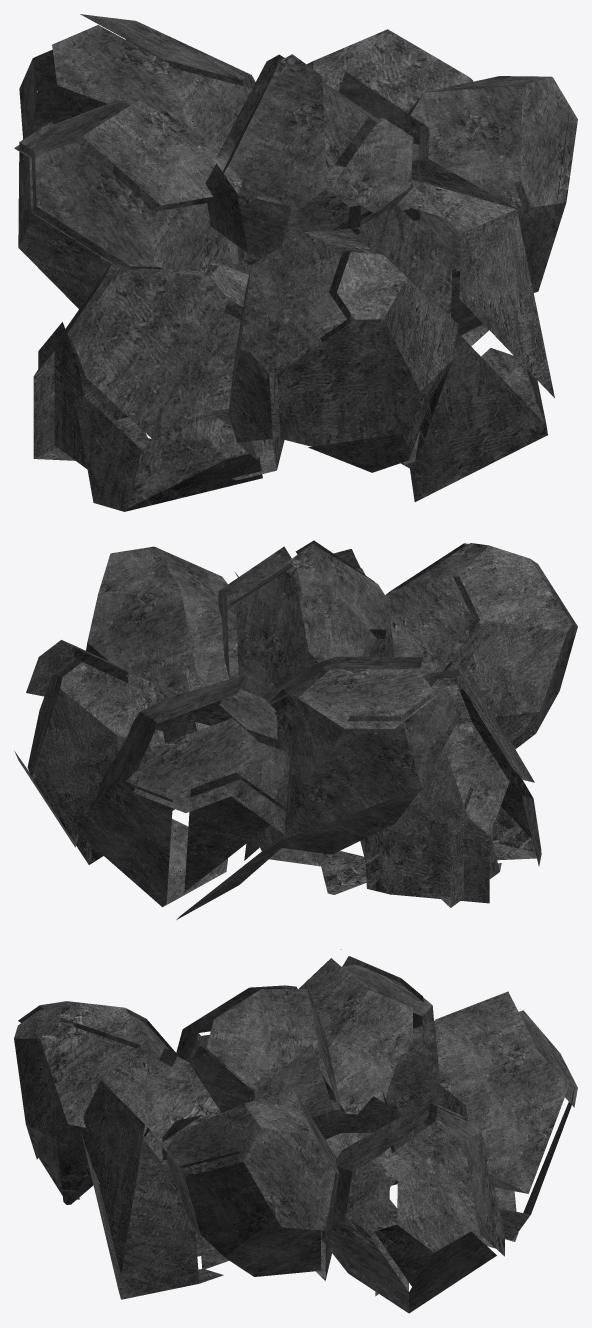
File: Stone10.obj
The picture shows the model from 3 angles, top to bottom: view 1: azimuth 30°, elevation 25°; view 2: azimuth 150°, elevation 25°; view 3: azimuth 270°, elevation 25°; orthographic projection. The views are drawn at different scales.
Parts seen in each view (by area): view 1: Object015; view 2: Object015; view 3: Object015.
Boxes of the visible parts, box(x1,y1,x2,y2) form: Object015: box(14, 14, 577, 511); Object015: box(14, 540, 577, 919); Object015: box(14, 949, 577, 1313).
Size of the model in its own units: 187 by 130 by 232.
1 material, 1 textured.
